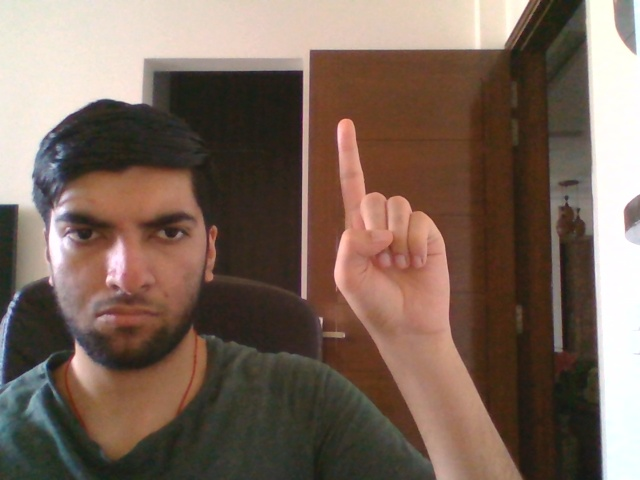LetterD: (334, 118, 450, 332)
